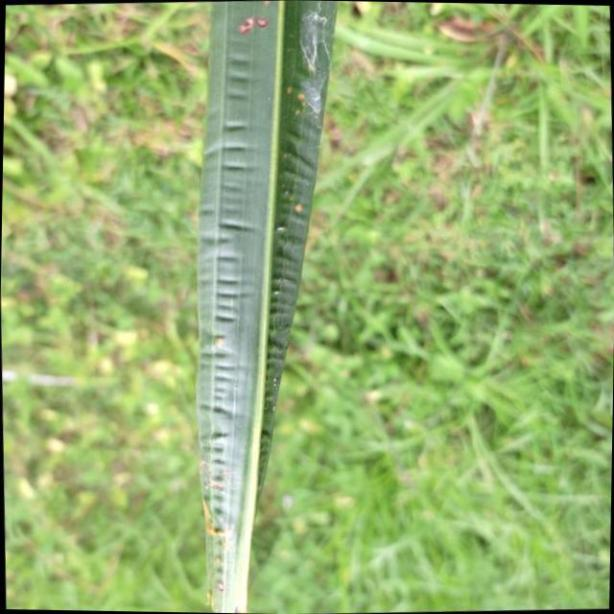Boron: (198, 0, 339, 614)
